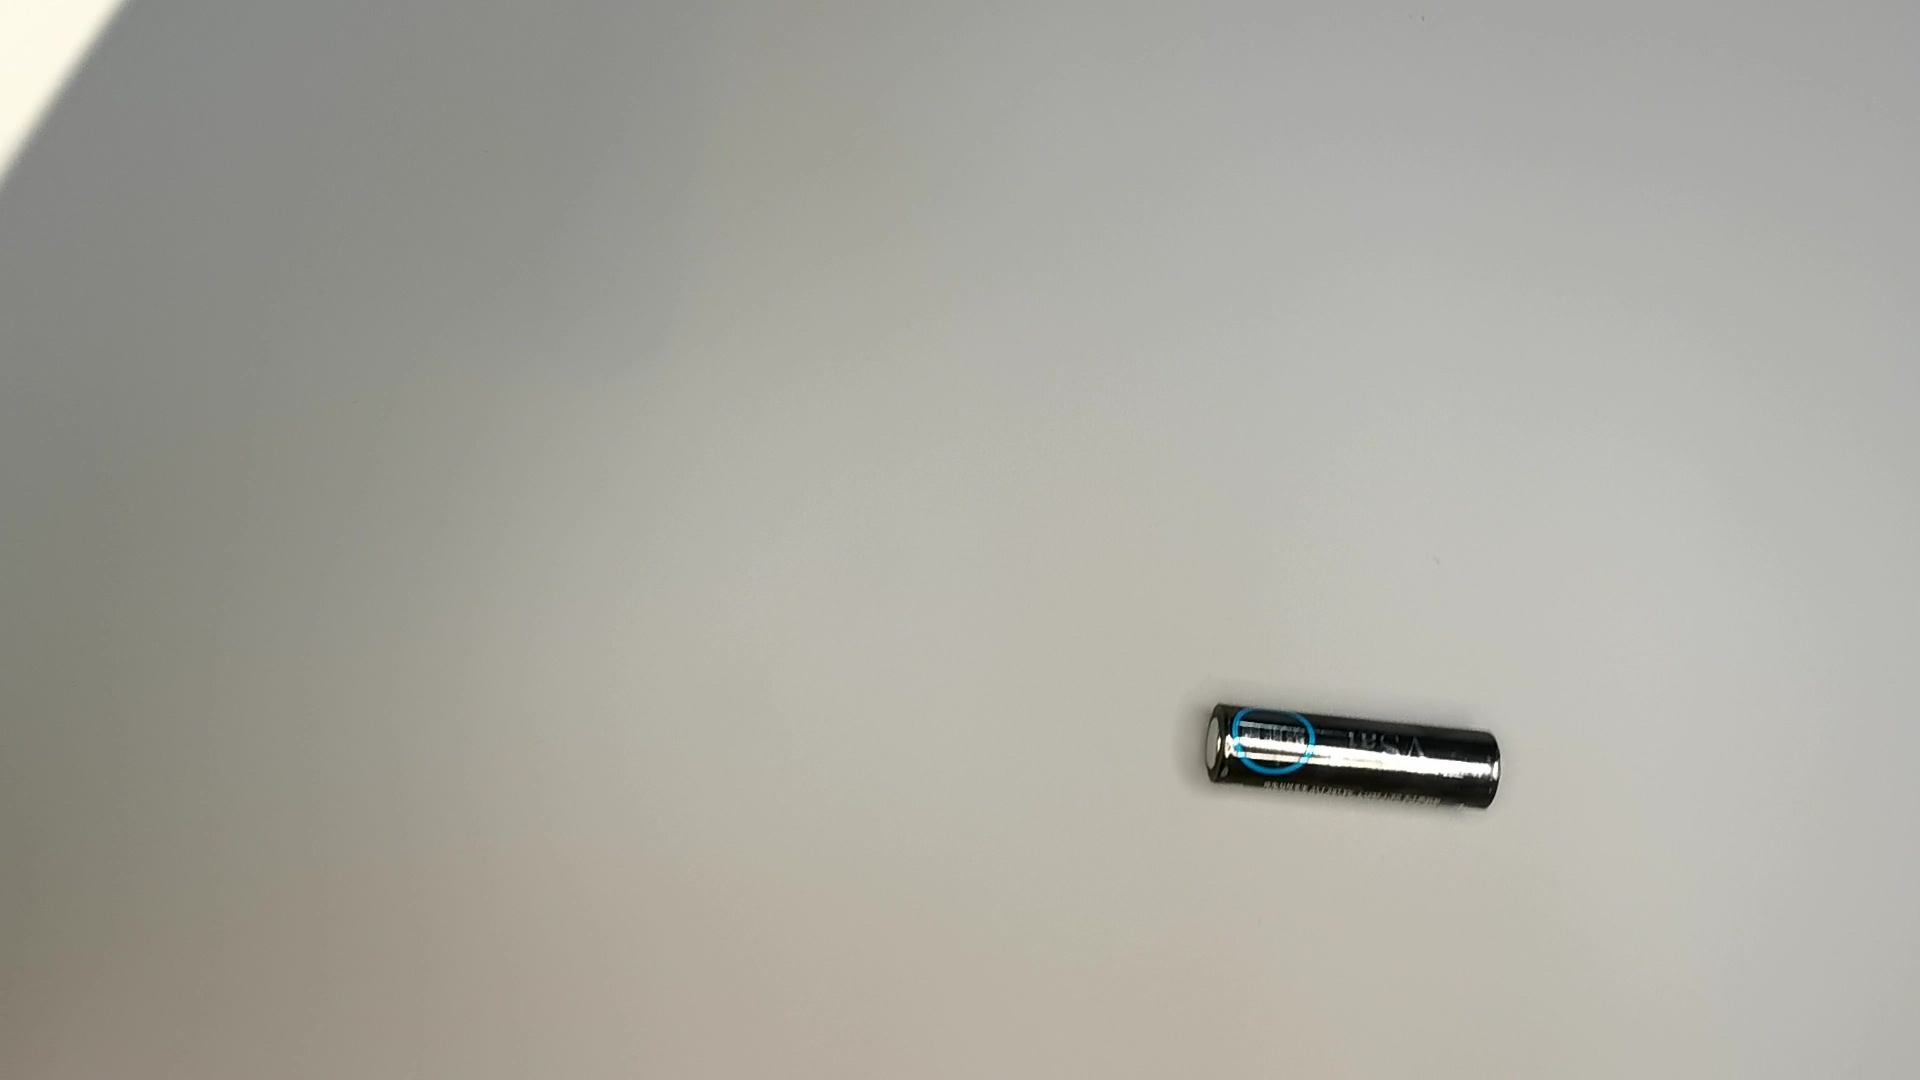battery: (1208, 698, 1507, 818)
